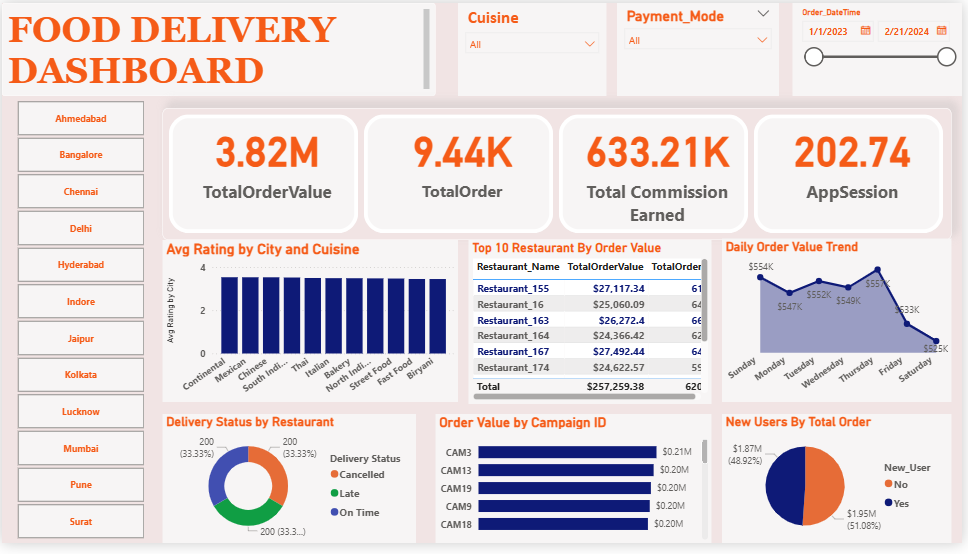

This screenshot's page, from the dashboard's own definition file:
{"tool":"powerbi","page":{"name":"Page 1","canvas":[1280,720],"ordinal":0},"visuals":[{"type":"textbox","box":[0,0,578,124],"z":0},{"type":"cardVisual","fields":{"Data":["Food_Delivery_Dataset.TotalOrderValue","Food_Delivery_Dataset.TotalOrder","Food_Delivery_Dataset.Total Commission Earned","Food_Delivery_Dataset.AppSession"]},"box":[214,140,1052,176],"z":1000},{"type":"slicer","fields":{"Values":["Food_Delivery_Dataset.Order_DateTime"]},"box":[1053.3,0,226.7,123.3],"z":2000},{"type":"slicer","fields":{"Values":["Food_Delivery_Dataset.City"]},"box":[0,123.3,213.3,596.7],"z":3000},{"type":"slicer","fields":{"Values":["Food_Delivery_Dataset.Cuisine"]},"box":[608,0,198,124],"z":4000},{"type":"donutChart","title":"Delivery Status by Restaurant","fields":{"Category":["Food_Delivery_Dataset.Delivery_Status"],"Y":["Food_Delivery_Dataset.RestaurantCount"]},"box":[214,548,338,172],"z":5000},{"type":"slicer","fields":{"Values":["Food_Delivery_Dataset.Payment_Mode"]},"box":[820,0,216,124],"z":6000},{"type":"clusteredColumnChart","title":"Avg Rating by City and Cuisine","fields":{"Y":["Food_Delivery_Dataset.AVG_Rating"],"Category":["Food_Delivery_Dataset.Cuisine"]},"box":[214,316,394,216],"z":7000},{"type":"tableEx","title":"Top 10 Restaurant By Order Value","fields":{"Values":["Food_Delivery_Dataset.Restaurant_Name","Food_Delivery_Dataset.TotalOrderValue","Food_Delivery_Dataset.TotalOrder"]},"box":[622,316,324,218],"z":8000},{"type":"lineChart","title":"Daily Order Value Trend","fields":{"Category":["Food_Delivery_Dataset.Day"],"Y":["Food_Delivery_Dataset.TotalOrderValue"]},"box":[960,314,306,218],"z":9000},{"type":"pieChart","title":"New Users By Total Order","fields":{"Category":["Food_Delivery_Dataset.New_User"],"Y":["Food_Delivery_Dataset.TotalOrderValue"]},"box":[960,548,306,172],"z":10000},{"type":"barChart","title":"Order Value by Campaign ID","fields":{"Y":["Food_Delivery_Dataset.TotalOrderValue"],"Category":["Food_Delivery_Dataset.Campaign_ID"]},"box":[578,548,368,172],"z":11000}]}

Visuals, with their boxes in screenshot pixels (x1, y1, x2, y2), scaled from the page's 1280x720 canvas onto the 968x554 screenshot:
textbox: BBox(0, 0, 437, 95)
cardVisual - Food_Delivery_Dataset.TotalOrderValue x Food_Delivery_Dataset.TotalOrder: BBox(162, 108, 957, 243)
slicer - Food_Delivery_Dataset.Order_DateTime: BBox(797, 0, 967, 95)
slicer - Food_Delivery_Dataset.City: BBox(0, 95, 161, 553)
slicer - Food_Delivery_Dataset.Cuisine: BBox(460, 0, 610, 95)
"Delivery Status by Restaurant" donutChart: BBox(162, 422, 417, 553)
slicer - Food_Delivery_Dataset.Payment_Mode: BBox(620, 0, 783, 95)
"Avg Rating by City and Cuisine" clusteredColumnChart: BBox(162, 243, 460, 409)
"Top 10 Restaurant By Order Value" tableEx: BBox(470, 243, 715, 411)
"Daily Order Value Trend" lineChart: BBox(726, 242, 957, 409)
"New Users By Total Order" pieChart: BBox(726, 422, 957, 553)
"Order Value by Campaign ID" barChart: BBox(437, 422, 715, 553)
